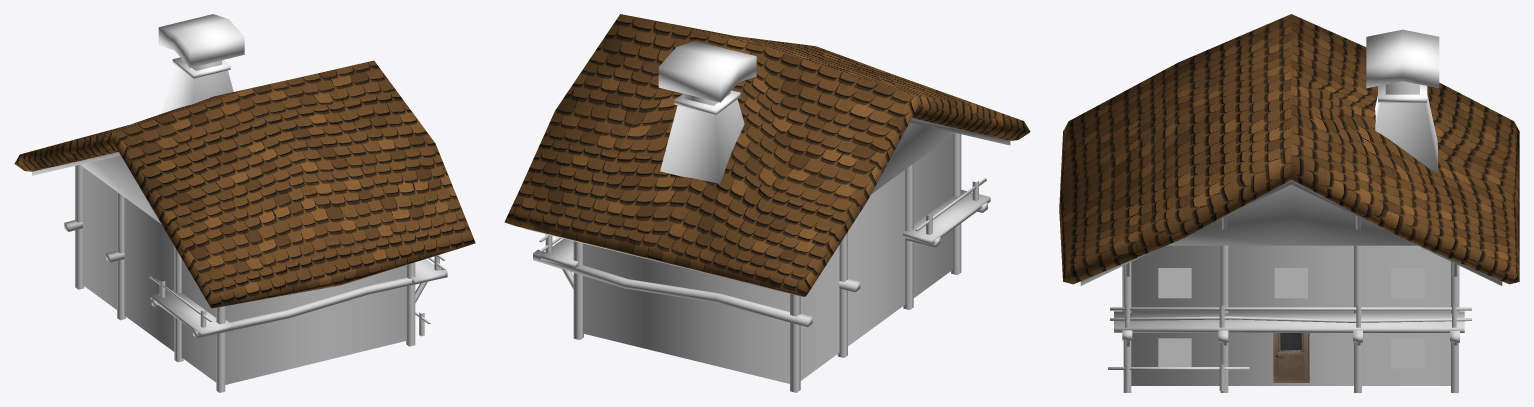
The model's file is woodLodge.glb.
3 renders of one model, left to right at view 1: azimuth 30°, elevation 25°; view 2: azimuth 150°, elevation 25°; view 3: azimuth 270°, elevation 25°, orthographic. The views are drawn at different scales.
Parts seen in each view (by area): view 1: roof_3.jpg__, stktex_generic_WoodA.png__, hacienda_ground.jpg__; view 2: roof_3.jpg__, stktex_generic_WoodA.png__, hacienda_ground.jpg__; view 3: roof_3.jpg__, stktex_generic_WoodA.png__, hacienda_ground.jpg__, stk_woodWindowA.png__, door.jpg__.
Boxes of the visible parts, x1=… form: roof_3.jpg__: x1=14, y1=60, x2=475, y2=308; stktex_generic_WoodA.png__: x1=32, y1=152, x2=457, y2=392; hacienda_ground.jpg__: x1=158, y1=14, x2=244, y2=113; roof_3.jpg__: x1=504, y1=14, x2=1030, y2=296; stktex_generic_WoodA.png__: x1=524, y1=118, x2=1010, y2=392; hacienda_ground.jpg__: x1=658, y1=41, x2=756, y2=183; roof_3.jpg__: x1=1059, y1=14, x2=1519, y2=284; stktex_generic_WoodA.png__: x1=1080, y1=180, x2=1502, y2=392; hacienda_ground.jpg__: x1=1366, y1=29, x2=1439, y2=172; stk_woodWindowA.png__: x1=1158, y1=268, x2=1424, y2=368; door.jpg__: x1=1273, y1=333, x2=1309, y2=382.
Size of the model in its own units: 9.69 by 8.39 by 11.86.
Materials: 5 (2 with a texture image).
